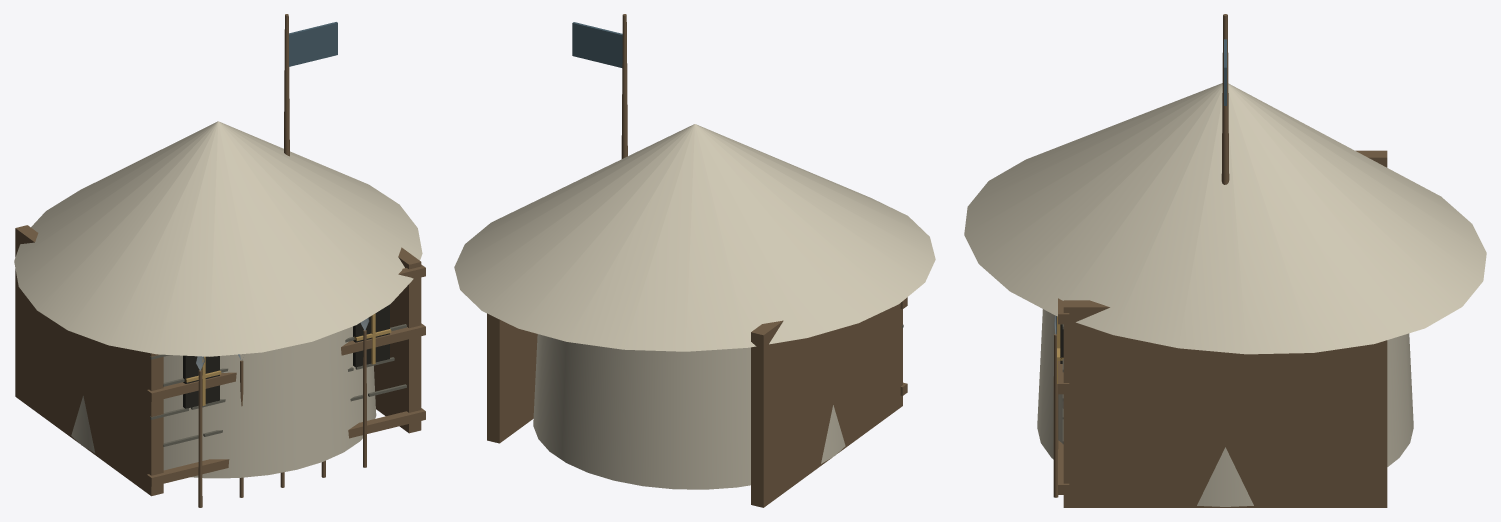
The model's file is b-barracks-steppe.glb.
The picture shows the model from 3 angles, left to right: view 1: azimuth 30°, elevation 25°; view 2: azimuth 150°, elevation 25°; view 3: azimuth 270°, elevation 25°; orthographic projection. The views are drawn at different scales.
Parts seen in each view (by area): view 1: Structure, weaponRack0, weaponRack4; view 2: Structure; view 3: Structure, weaponRack4.
Part boxes in pixels (x1,y1,x2,y2): Structure: [14, 14, 425, 496]; weaponRack0: [196, 356, 204, 507]; weaponRack4: [360, 318, 369, 467]; Structure: [454, 14, 935, 507]; Structure: [964, 14, 1486, 507]; weaponRack4: [1053, 315, 1058, 497].
Size of the model in its own units: 5.55 by 5.6 by 5.55.
